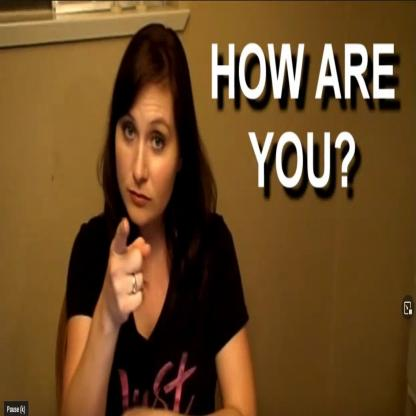HowAreYou: (102, 214, 188, 322)
